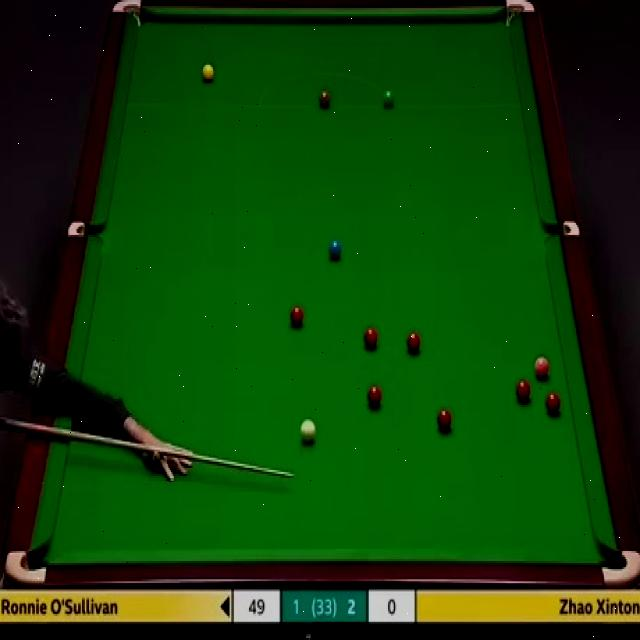blue-ball: (329, 240, 342, 262)
brown-ball: (319, 92, 331, 110)
green-ball: (383, 90, 394, 109)
pink-ball: (534, 355, 551, 381)
red-ball: (544, 390, 562, 416), (435, 408, 453, 434), (362, 327, 378, 351), (407, 329, 422, 354), (368, 385, 382, 410), (516, 381, 531, 402), (291, 304, 304, 326)
white-ball: (298, 418, 316, 446)
yellow-ball: (201, 64, 216, 86)
